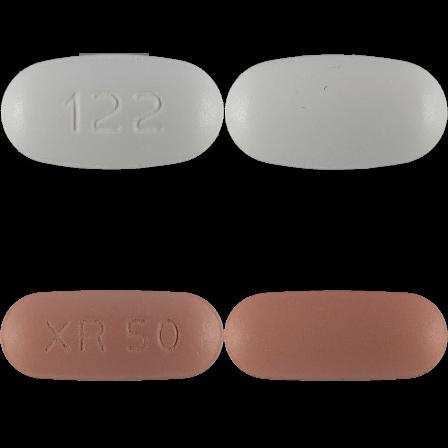61786-933: (0, 0, 224, 224)
